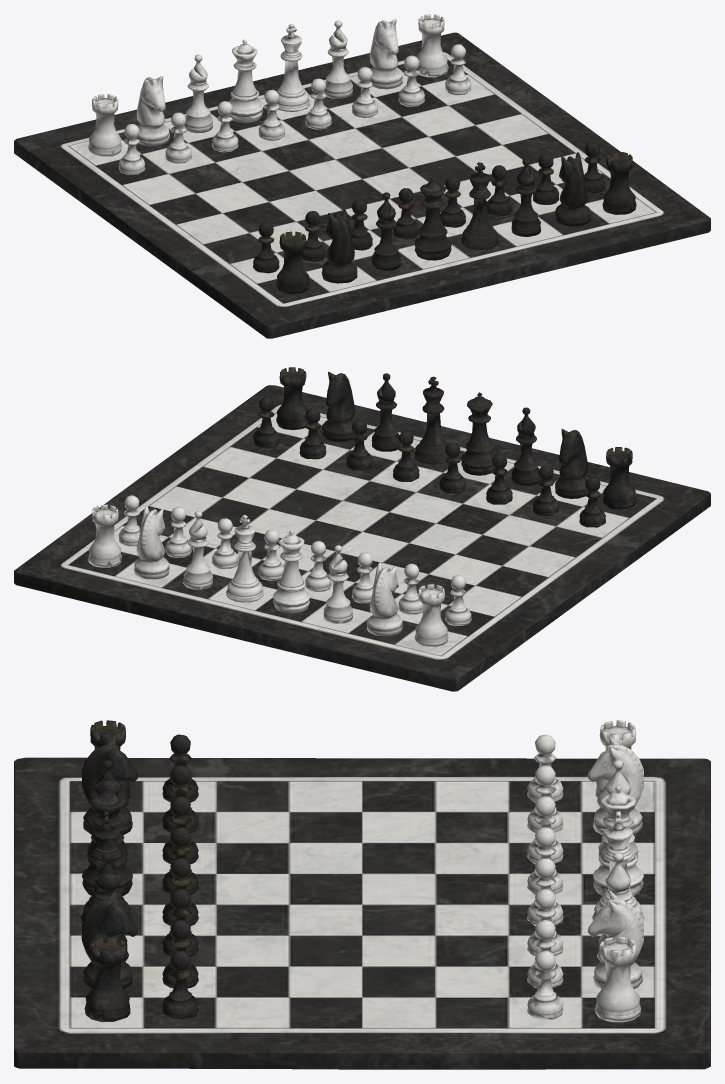
Rendered from polyhaven-chess-set.glb.
3 views of the same model, one above another, from view 1: azimuth 30°, elevation 25°; view 2: azimuth 150°, elevation 25°; view 3: azimuth 270°, elevation 25° (orthographic). The views are drawn at different scales.
Parts seen in each view (by area): view 1: board, piece_rook_black_01, piece_rook_white_01; view 2: board, piece_rook_white_01, piece_rook_black_01; view 3: board, piece_rook_black_01, piece_rook_white_01.
Part boxes in pixels (x1=…): board: x1=14, y1=32, x2=710, y2=338; piece_rook_black_01: x1=253, y1=142, x2=636, y2=294; piece_rook_white_01: x1=88, y1=14, x2=471, y2=174; board: x1=14, y1=385, x2=710, y2=691; piece_rook_white_01: x1=88, y1=495, x2=471, y2=647; piece_rook_black_01: x1=253, y1=367, x2=636, y2=527; board: x1=14, y1=757, x2=710, y2=1069; piece_rook_black_01: x1=80, y1=720, x2=198, y2=1022; piece_rook_white_01: x1=527, y1=720, x2=644, y2=1022.
Size of the model in its own units: 0.5526 by 0.112 by 0.5519.
Materials: 3 (3 with a texture image).
